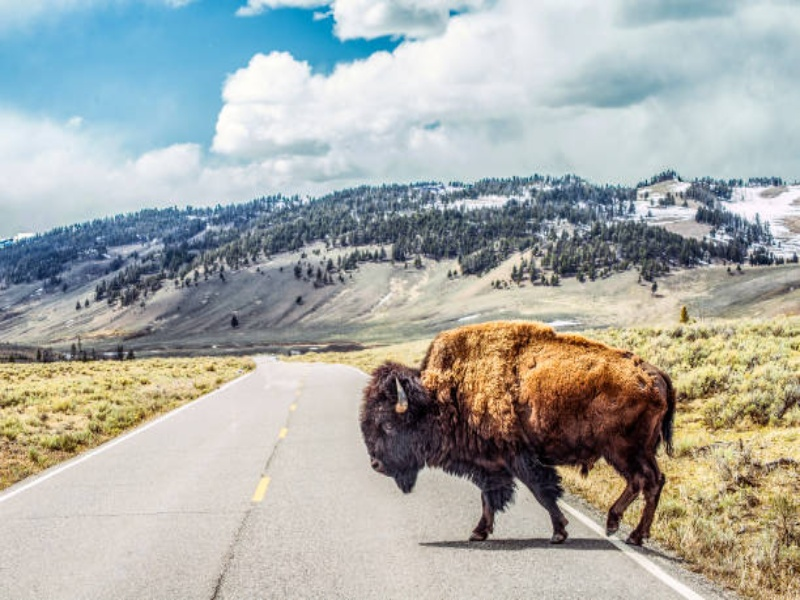buffalo: (352, 318, 686, 553)
